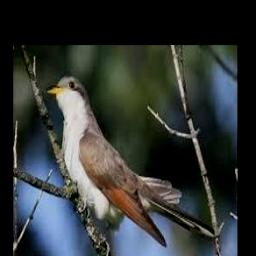Cuckoo: (46, 76, 216, 244)
